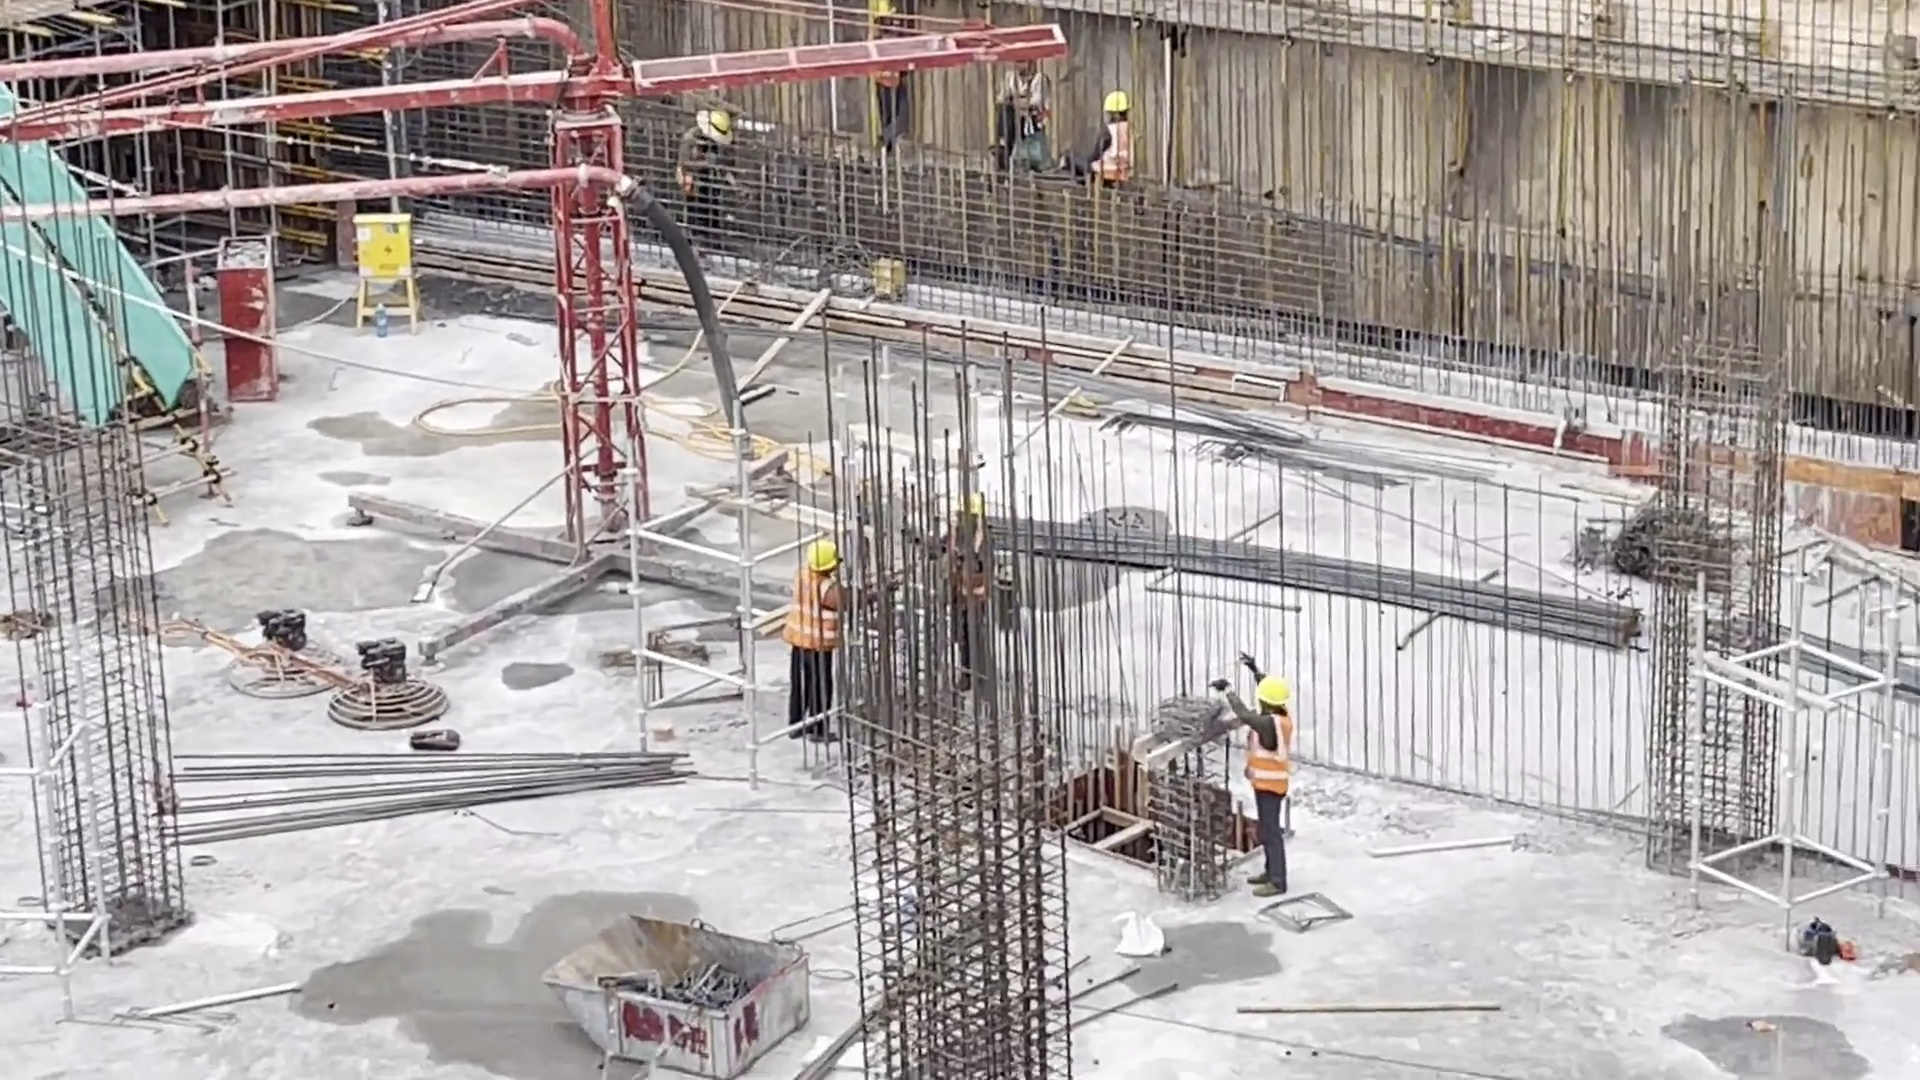ebox: (344, 206, 420, 283)
helmet: (1254, 672, 1297, 709), (805, 535, 844, 572), (691, 108, 731, 137), (1101, 87, 1136, 114)
hopper: (540, 910, 828, 1077)
person: (1219, 654, 1303, 899), (936, 487, 1016, 695), (778, 528, 851, 747), (679, 105, 736, 247), (1085, 84, 1148, 194), (999, 64, 1058, 172)
rebar: (1060, 489, 1653, 646), (176, 755, 708, 841)
vest: (788, 576, 844, 663), (1246, 708, 1299, 799), (1097, 122, 1145, 186)
